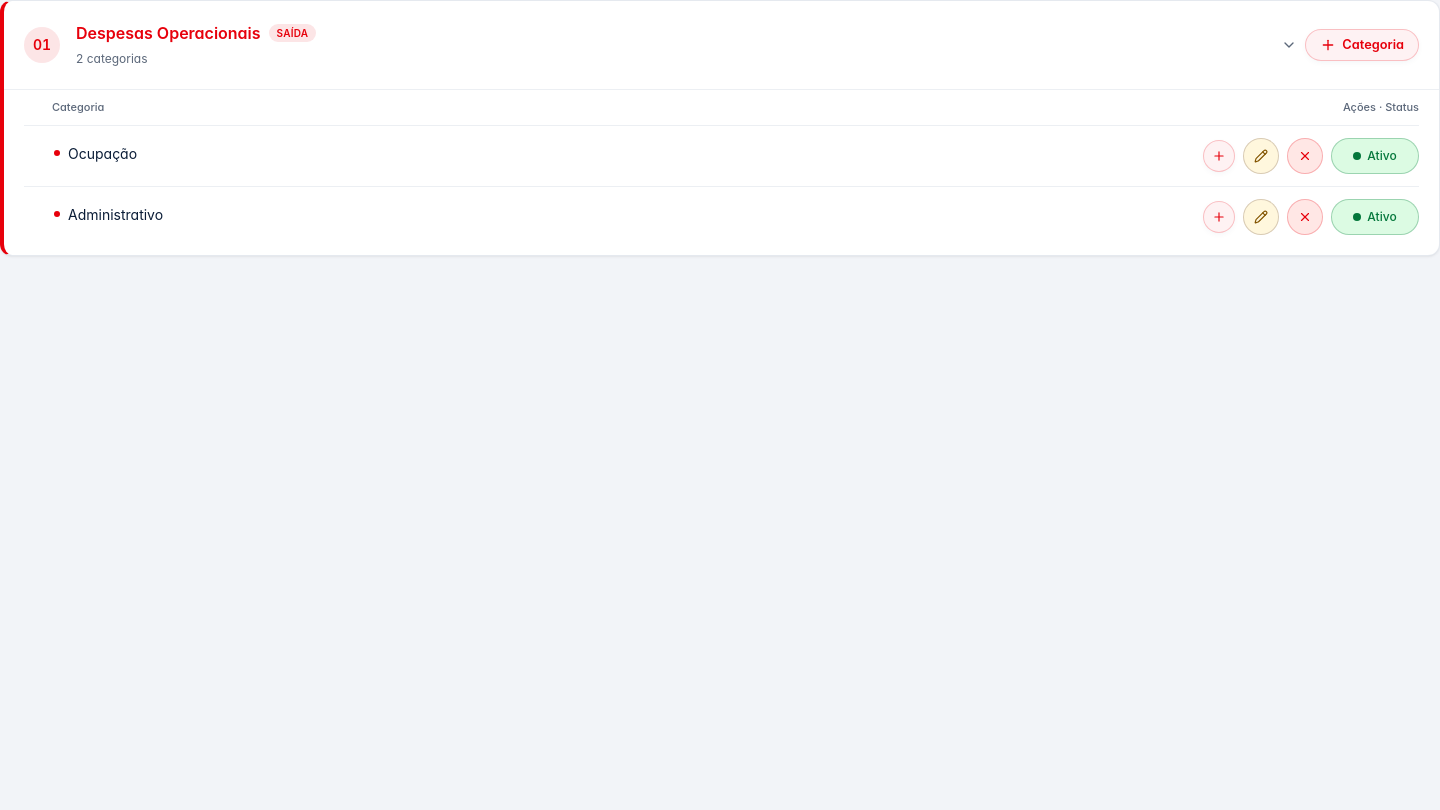
oferece inativação ou transferência quando a categoria possui vínculos
Click the button named "Excluir Ocupação".
click(1305, 156)  # box [1287,138,1323,174]
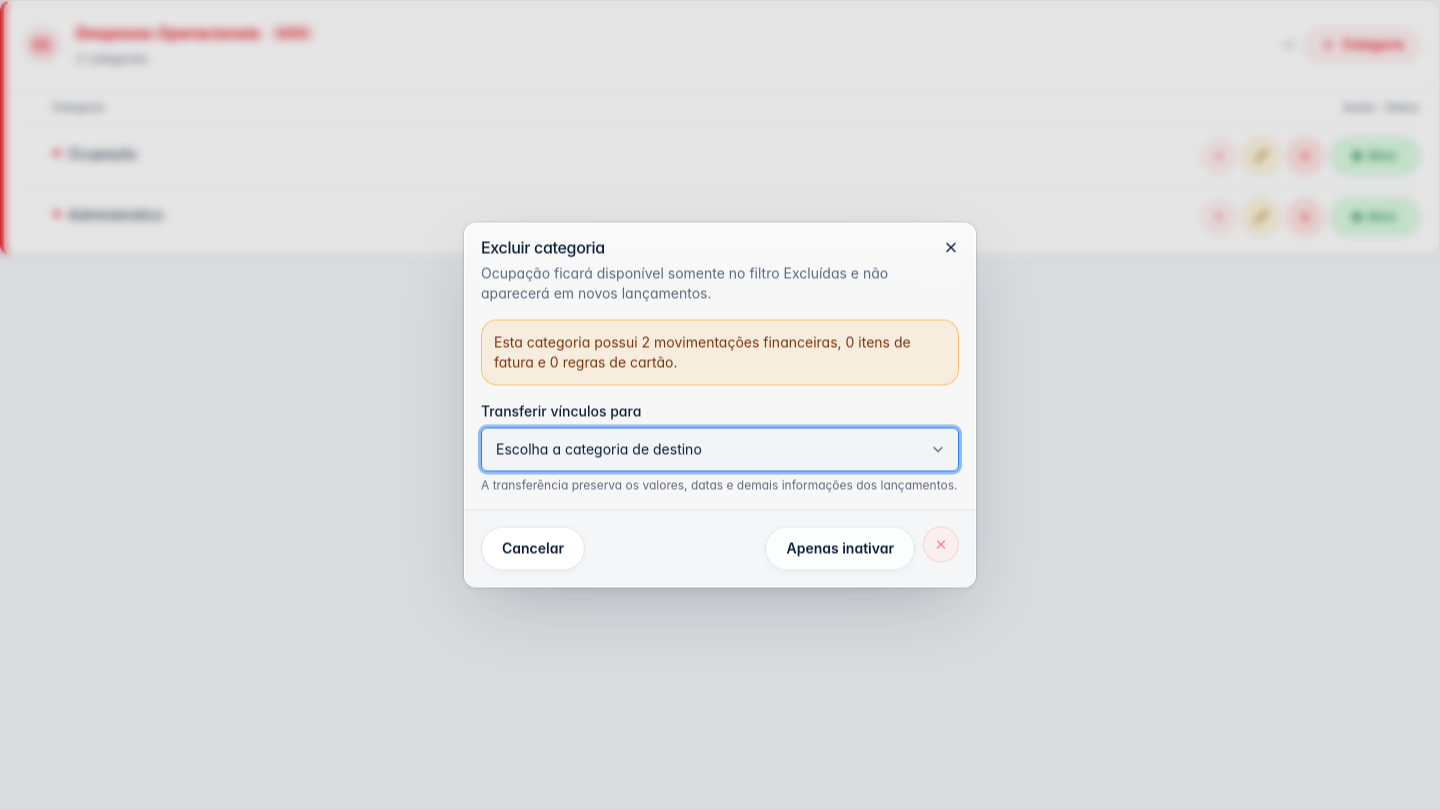
Now the button "Apenas inativar" is shown, box [766,526,915,570]
Now the button named "Excluir categoria" is disabled, box [923,526,959,562]
